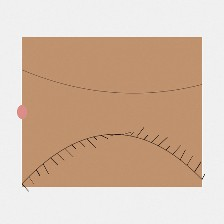corneal_ulcer: (85, 97, 137, 138)
